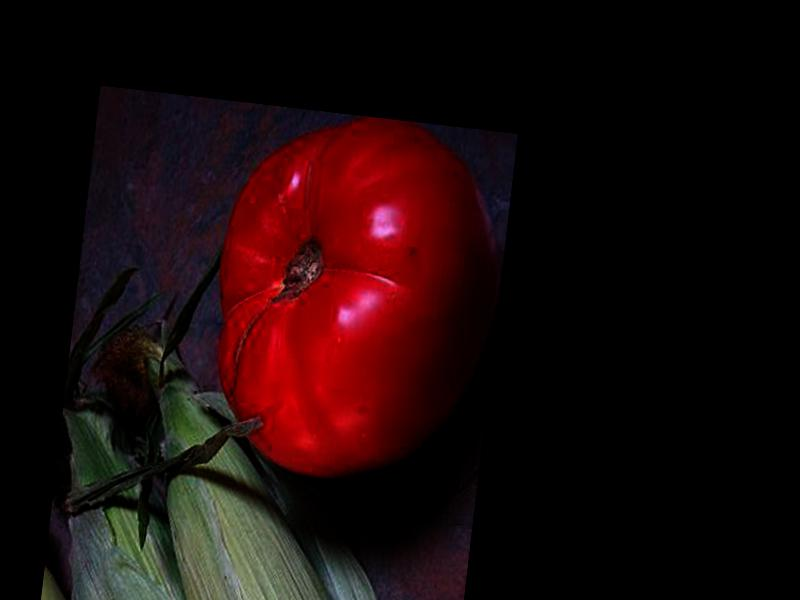Tomato: (197, 105, 513, 494)
